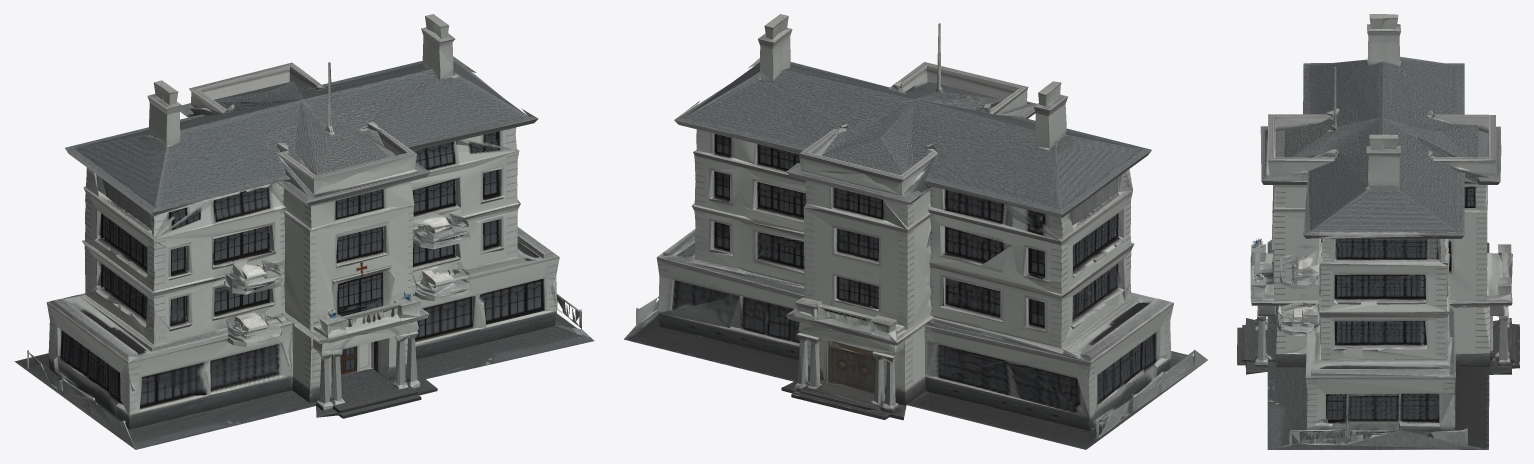
File: hospital.glb
3 views of the same model, side by side, from view 1: azimuth 30°, elevation 25°; view 2: azimuth 150°, elevation 25°; view 3: azimuth 270°, elevation 25° (orthographic). The views are drawn at different scales.
Size of the model in its own units: 1.9 by 1.22 by 1.11.
Materials: 1 (1 with a texture image).
